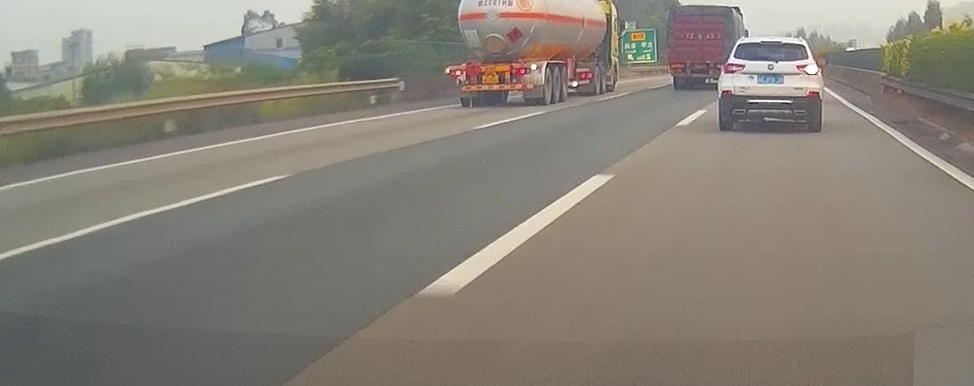L_light: (723, 64, 747, 74), (451, 70, 465, 76)
R_light: (796, 63, 819, 75), (515, 68, 531, 74)
T_light: (760, 40, 782, 44), (484, 64, 495, 69)
day-brake: (446, 61, 546, 108)
day-right: (718, 37, 823, 132)
